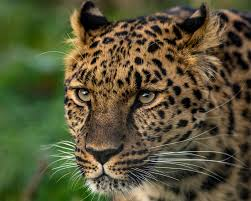amur_leopard: (29, 2, 247, 197)
